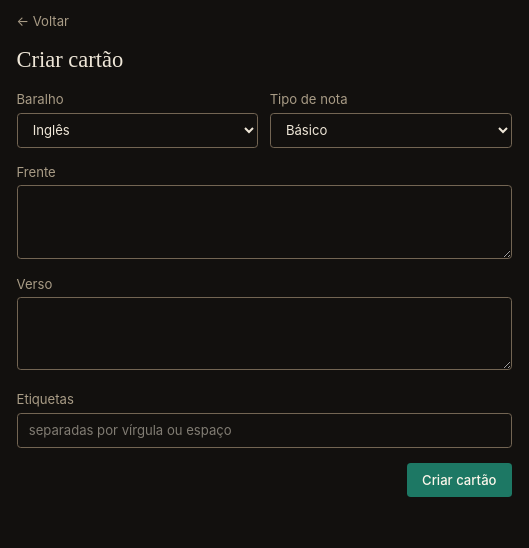
Test case: CriarCartao › cria a nota com os campos preenchidos e as etiquetas separadas por vírgula/espaço, e limpa o formulário
In the text box labelled "Frente": (264, 222) [16, 185, 512, 259], type "Hello"
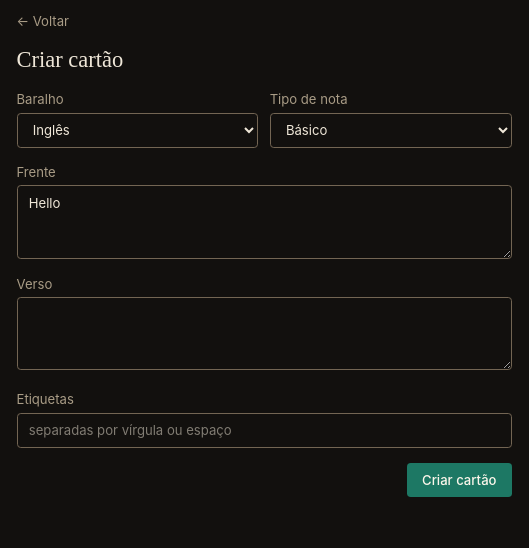
In the text box labelled "Verso": (264, 334) [16, 297, 512, 370], type "Olá"
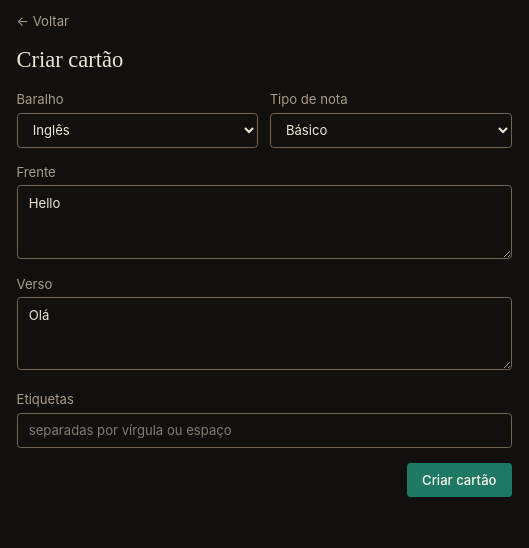
In the field labelled "Etiquetas": (264, 430) [16, 412, 512, 448], type "saudações, básico"
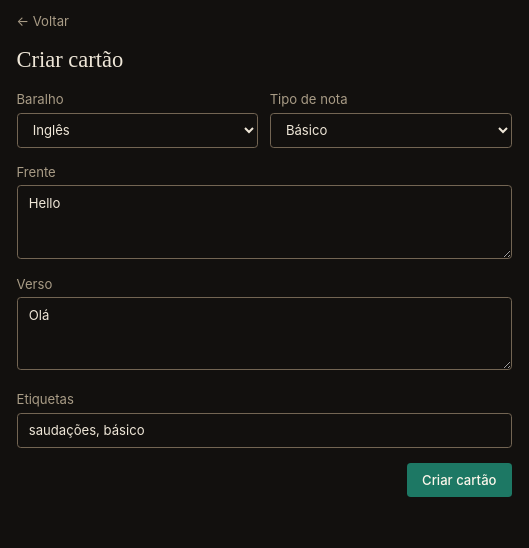
Click the button "Criar cartão": click(459, 480) [407, 463, 512, 497]
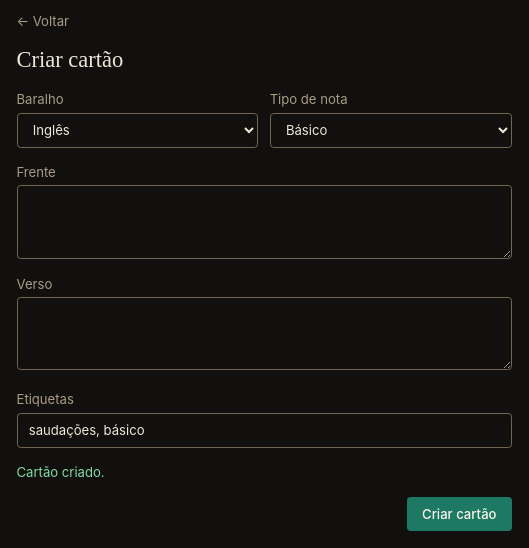
Expected: the message reads "Cartão criado.", [16, 464, 105, 480]
Expected: the text box labelled "Frente" is empty, [16, 185, 512, 259]
